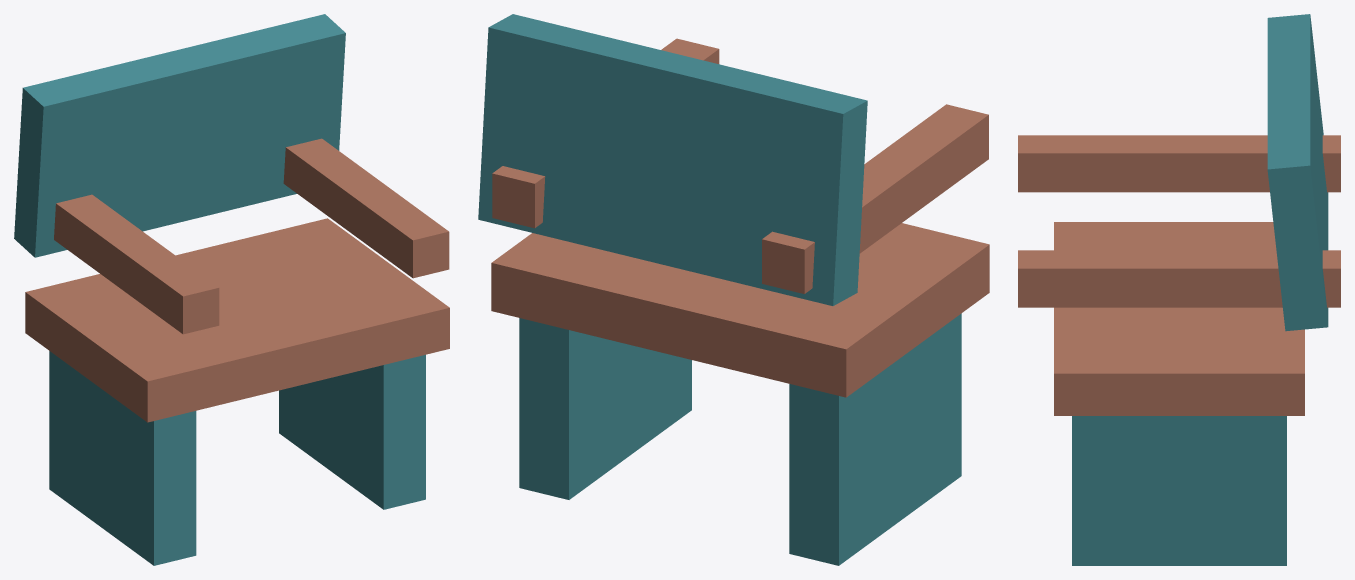
The model's file is prop-bandstand-chair-4.glb.
3 views of the same model, side by side, from view 1: azimuth 30°, elevation 25°; view 2: azimuth 150°, elevation 25°; view 3: azimuth 270°, elevation 25° (orthographic). The views are drawn at different scales.
Parts seen in each view (by area): view 1: chair; view 2: chair; view 3: chair.
Boxes of the visible parts, box(x1,y1,x2,y2) form: chair: box(14, 14, 449, 565); chair: box(478, 14, 989, 565); chair: box(1018, 14, 1340, 565).
Size of the model in its own units: 1 by 1.25 by 0.9.
